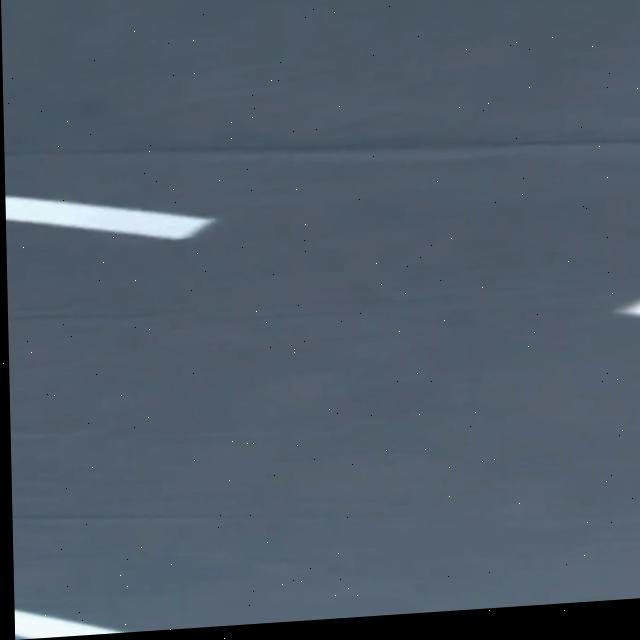center: (4, 196, 214, 240), (615, 299, 640, 318)
left: (14, 611, 121, 639)
